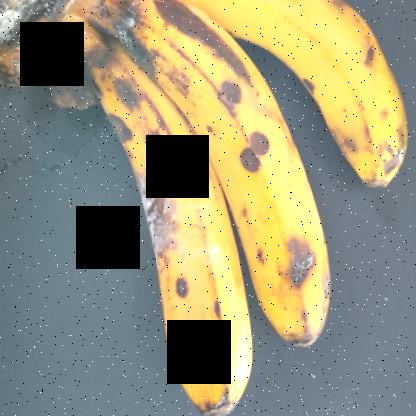overripe: (128, 13, 349, 353), (73, 41, 266, 415), (162, 0, 409, 190)
rotten: (108, 164, 212, 290)
